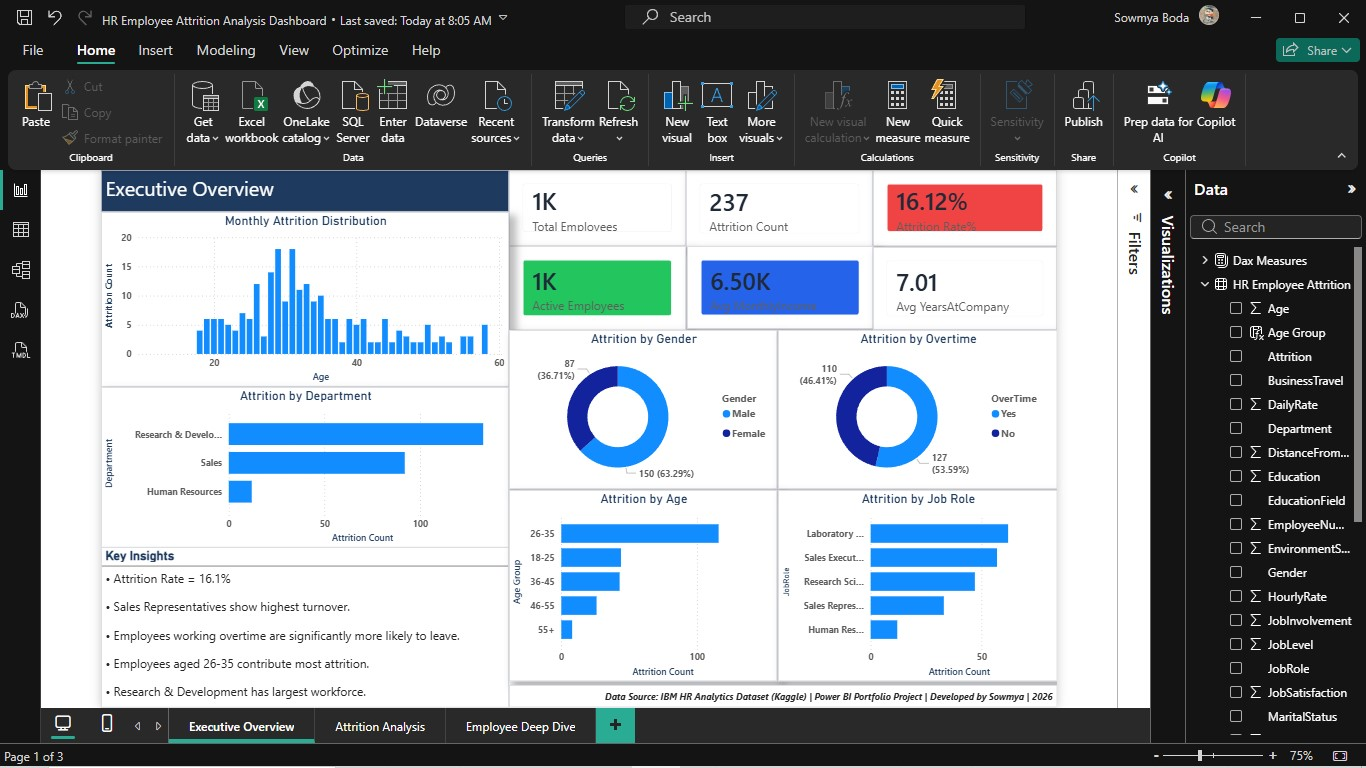

Layout of this report page (visuals, bound fields, positions):
{"tool":"powerbi","page":{"name":"Executive Overview","canvas":[1280,720],"ordinal":0},"visuals":[{"type":"cardVisual","fields":{"Data":["Dax Measures.Total Employees"]},"box":[546.4,0,236.7,101.8],"z":0},{"type":"textbox","box":[0,0,546.4,56.4],"z":1000},{"type":"cardVisual","fields":{"Data":["Dax Measures.Attrition Count"]},"box":[783.1,0,250.5,103.2],"z":2000},{"type":"cardVisual","fields":{"Data":["Dax Measures.Attrition Rate%"]},"box":[1033.6,0,246.4,101.8],"z":3000},{"type":"cardVisual","fields":{"Data":["Dax Measures.Active Employees"]},"box":[546.4,101.8,236.7,112.9],"z":4000},{"type":"cardVisual","fields":{"Data":["Dax Measures.Avg Monthly Income"]},"box":[784.5,101.8,249.1,111.5],"z":5000},{"type":"cardVisual","fields":{"Data":["Dax Measures.Avg YearsAtCompany"]},"box":[1033.6,103.2,246.4,111.5],"z":6000},{"type":"columnChart","title":"Monthly Attrition Distribution","fields":{"Y":["Dax Measures.Attrition Count"],"Category":["HR Employee Attrition.Age"]},"box":[0,56.4,546.4,234],"z":7000},{"type":"barChart","title":"Attrition by Department","fields":{"Category":["HR Employee Attrition.Department"],"Y":["Dax Measures.Attrition Count"]},"box":[0,290.4,546.4,214.7],"z":8000},{"type":"donutChart","title":"Attrition by Gender","fields":{"Y":["Dax Measures.Attrition Count"],"Category":["HR Employee Attrition.Gender"]},"box":[546.4,214.7,359.2,213.3],"z":9000},{"type":"donutChart","title":"Attrition by Overtime","fields":{"Y":["Dax Measures.Attrition Count"],"Category":["HR Employee Attrition.OverTime"]},"box":[905.6,214.7,374.4,213.3],"z":10000},{"type":"textbox","title":"Key Insights","box":[0,505.1,546.4,214.7],"z":11000},{"type":"barChart","title":"Attrition by Age","fields":{"Y":["Dax Measures.Attrition Count"],"Category":["HR Employee Attrition.Age Group"]},"box":[546.4,428,359.2,256],"z":12000},{"type":"barChart","title":"Attrition by Job Role","fields":{"Y":["Dax Measures.Attrition Count"],"Category":["HR Employee Attrition.JobRole"]},"box":[905.6,428,374.4,256],"z":13000},{"type":"textbox","box":[546.4,689.5,733.6,30.3],"z":13001}]}

Visuals, with their boxes on the page's 1280x720 design canvas (x1, y1, x2, y2). These are canvas units, not pixel positions in the 1366x768 screenshot, which may show the page scaled, cropped or inside an application window:
cardVisual - Dax Measures.Total Employees: 546 0 783 102
textbox: 0 0 546 56
cardVisual - Dax Measures.Attrition Count: 783 0 1034 103
cardVisual - Dax Measures.Attrition Rate%: 1034 0 1280 102
cardVisual - Dax Measures.Active Employees: 546 102 783 215
cardVisual - Dax Measures.Avg Monthly Income: 784 102 1034 213
cardVisual - Dax Measures.Avg YearsAtCompany: 1034 103 1280 215
"Monthly Attrition Distribution" columnChart: 0 56 546 290
"Attrition by Department" barChart: 0 290 546 505
"Attrition by Gender" donutChart: 546 215 906 428
"Attrition by Overtime" donutChart: 906 215 1280 428
"Key Insights" textbox: 0 505 546 720
"Attrition by Age" barChart: 546 428 906 684
"Attrition by Job Role" barChart: 906 428 1280 684
textbox: 546 690 1280 720
